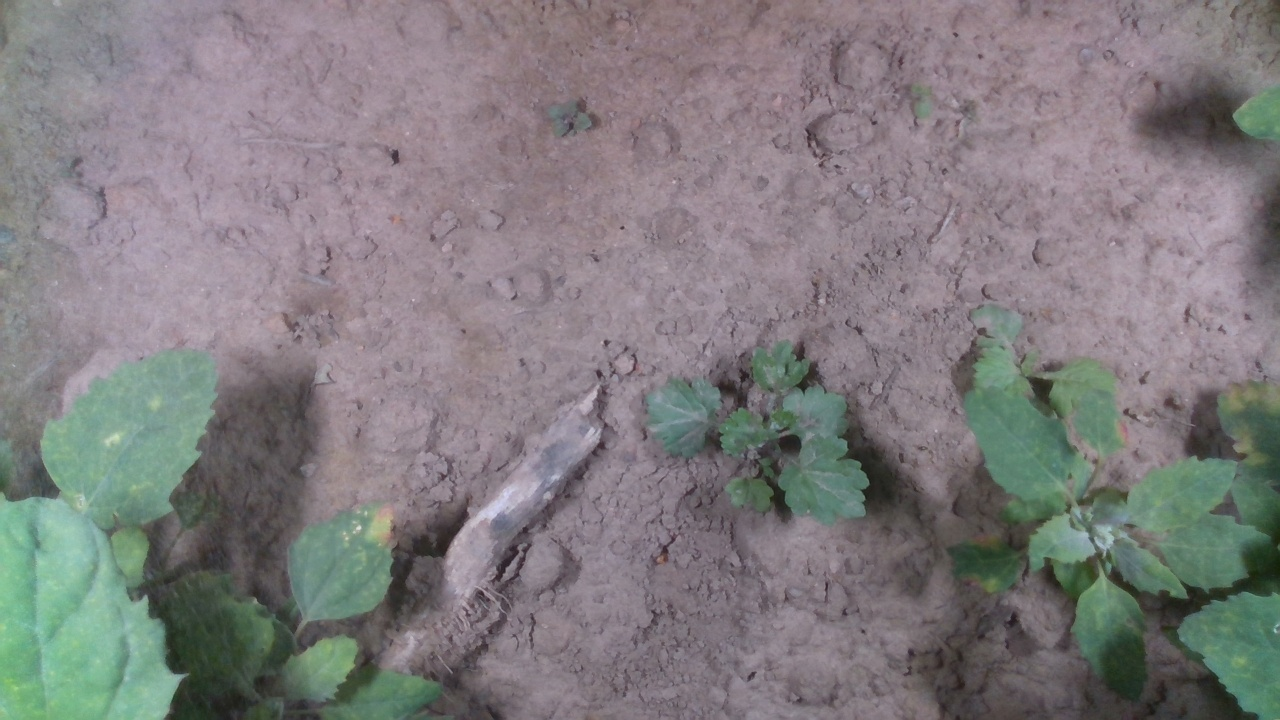weed: (546, 99, 589, 141), (908, 78, 931, 121)
